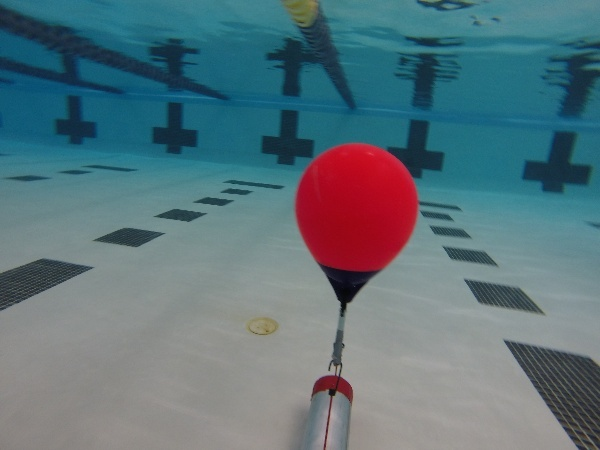buoy_red: (288, 142, 421, 311)
